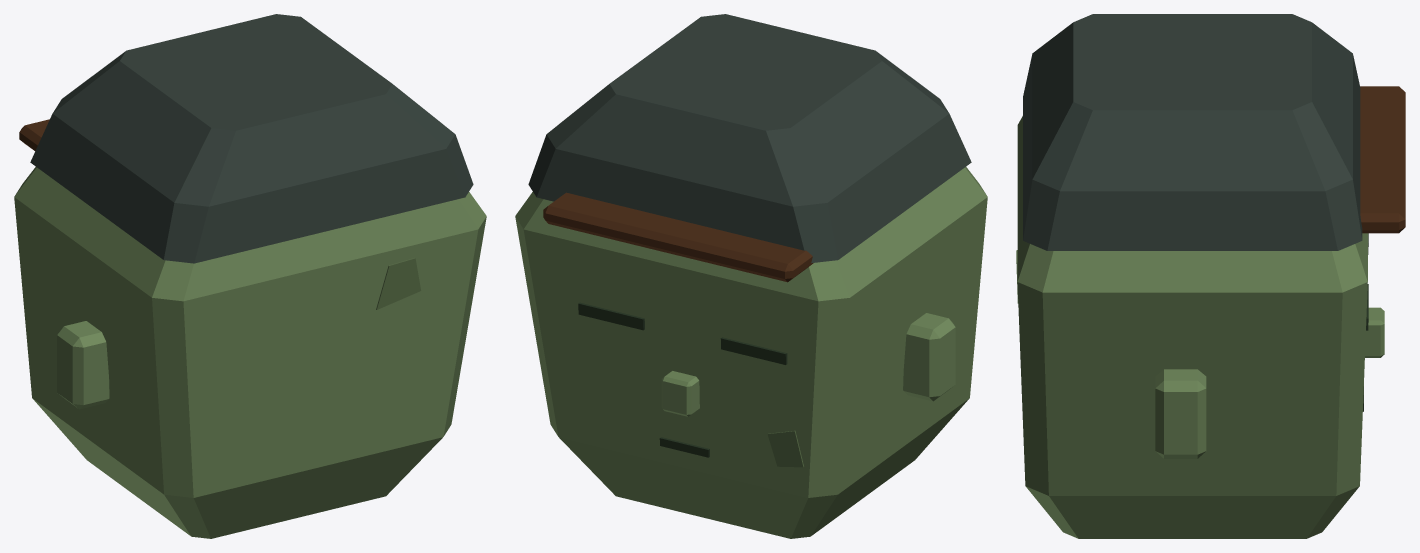
File: Head.glb
3 views of the same model, side by side, from view 1: azimuth 30°, elevation 25°; view 2: azimuth 150°, elevation 25°; view 3: azimuth 270°, elevation 25° (orthographic). The views are drawn at different scales.
Visible parts, largest first — view 1: Sculpture; view 2: Sculpture; view 3: Sculpture.
Boxes of the visible parts, x1,y1,x2,y2 form: Sculpture: [14, 14, 486, 538]; Sculpture: [515, 14, 987, 538]; Sculpture: [1016, 14, 1405, 538].
Size of the model in its own units: 0.599 by 0.608 by 0.4954.
